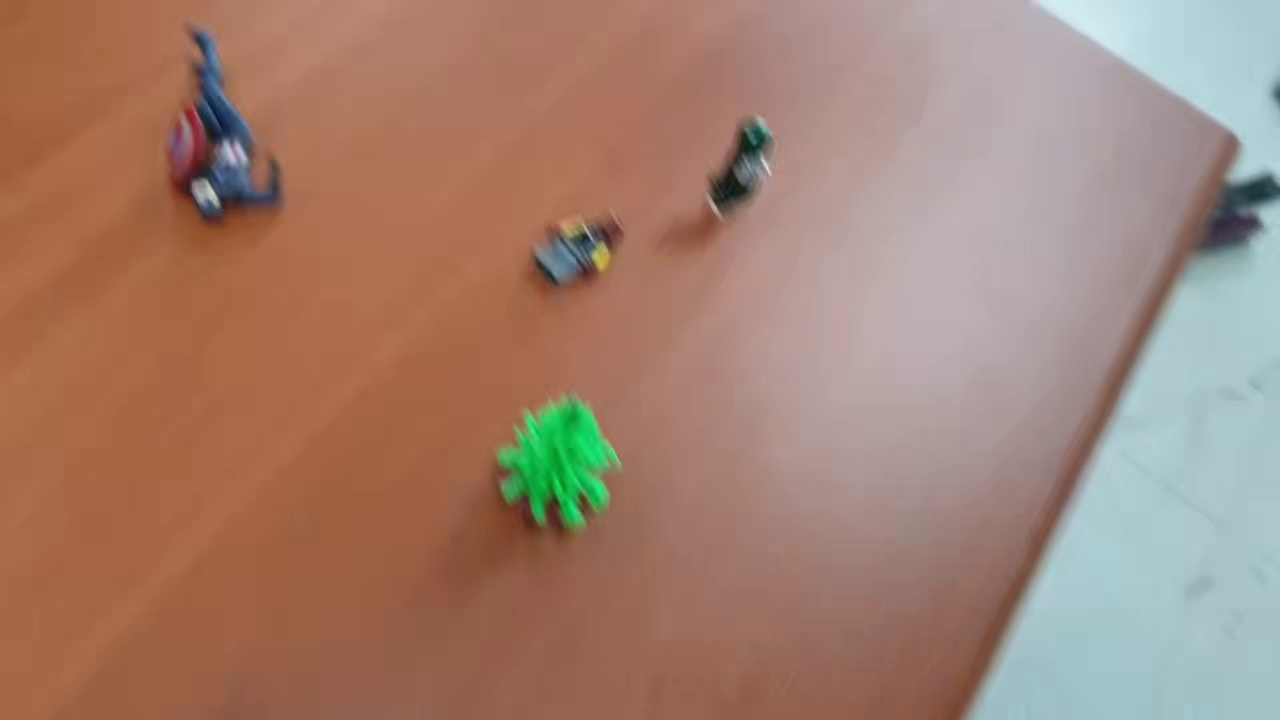people: (162, 18, 286, 223), (704, 113, 777, 224), (532, 205, 628, 288)
tree: (488, 392, 622, 531)
